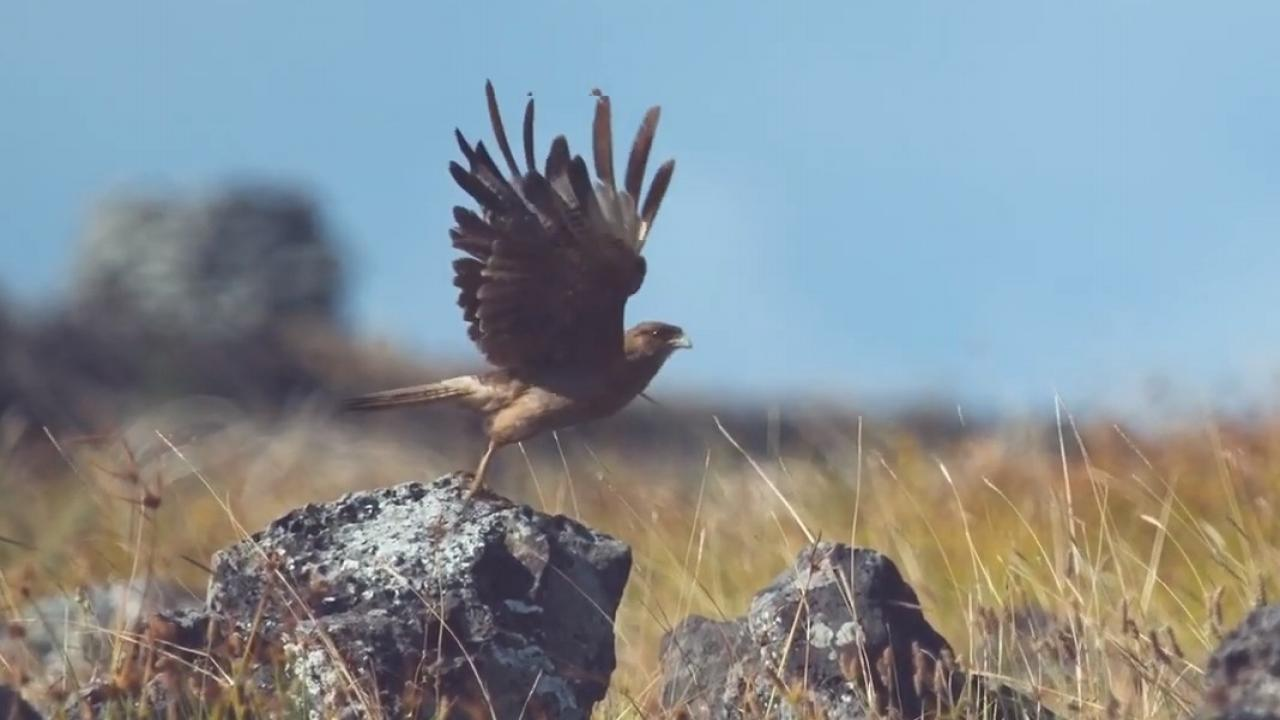Bird: (336, 64, 704, 508)
